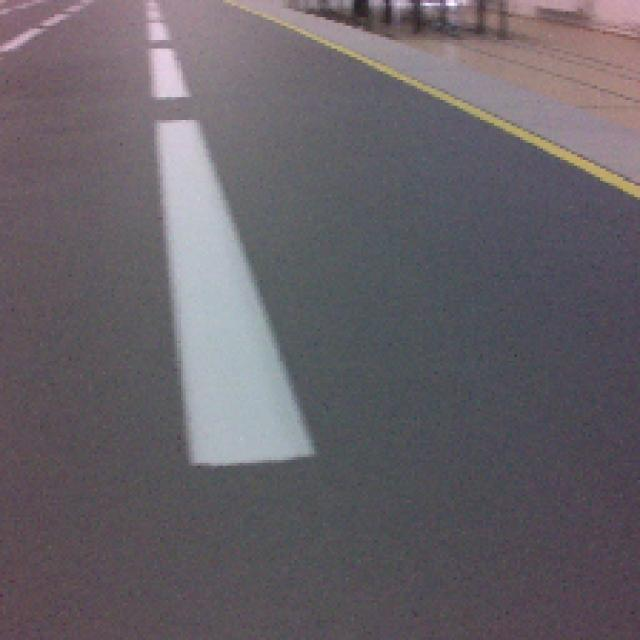Pedestrian crosswalk: (154, 115, 314, 457)
